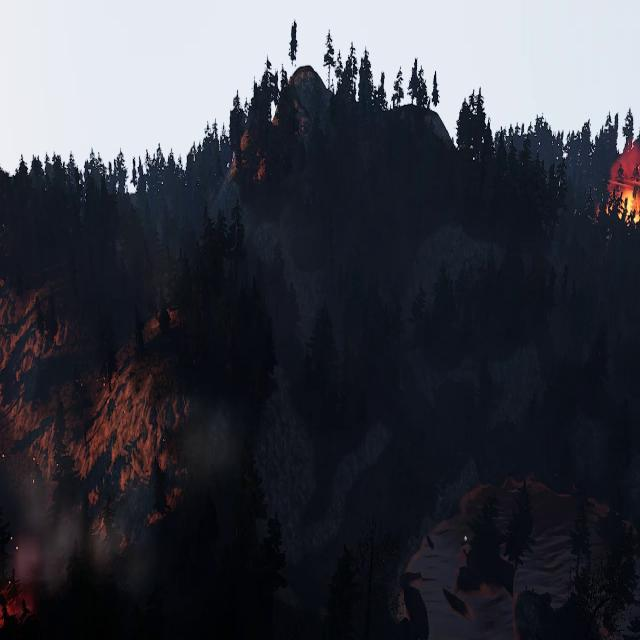fire: (619, 186, 640, 222)
smoke: (3, 454, 177, 616), (612, 96, 640, 189)
